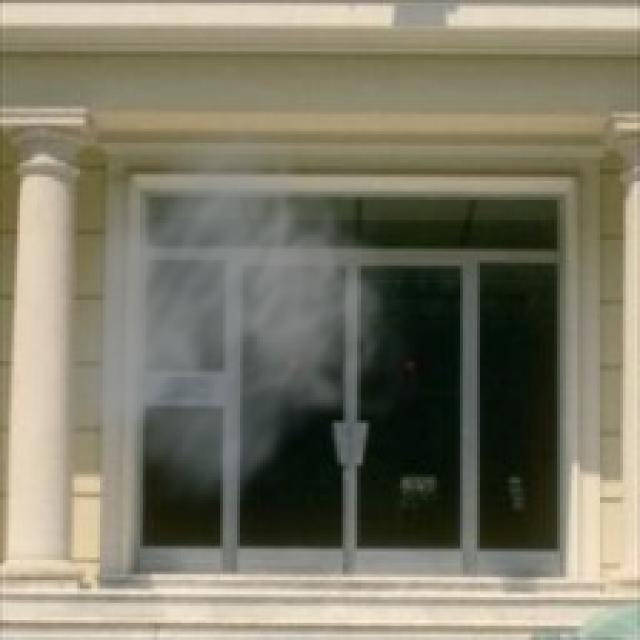Smoke: (68, 108, 423, 520)
